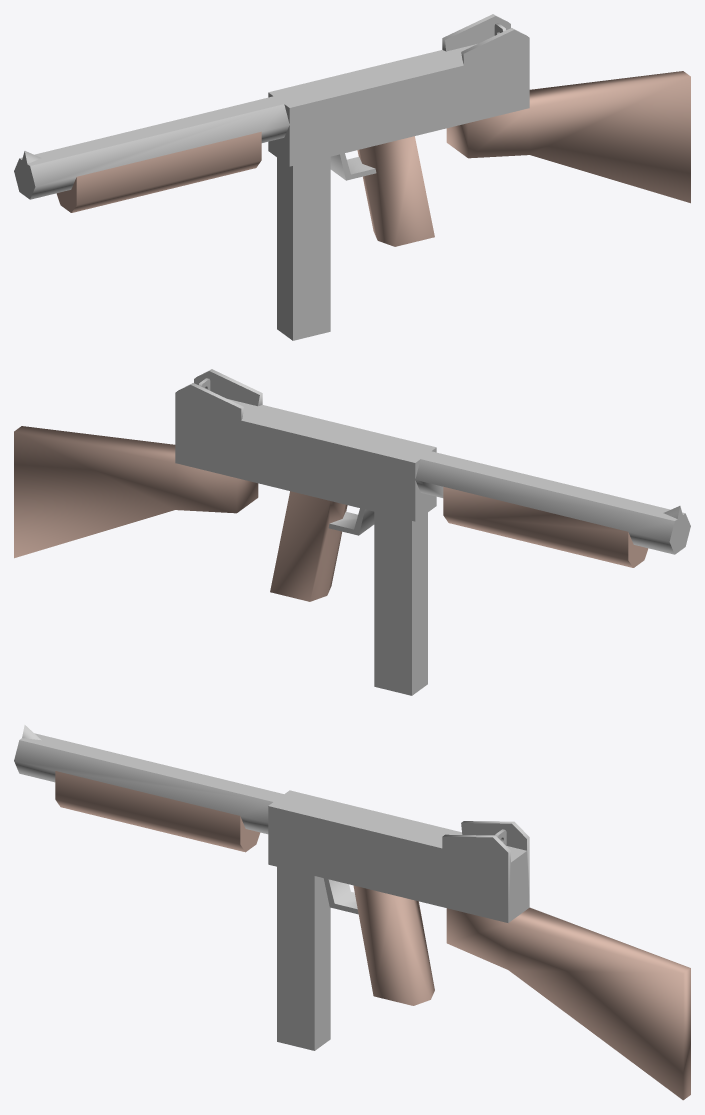
Rendered from Thompson.fbx.
The picture shows the model from 3 angles, top to bottom: view 1: azimuth 30°, elevation 25°; view 2: azimuth 150°, elevation 25°; view 3: azimuth 330°, elevation 25°; orthographic projection.
Parts seen in each view (by area): view 1: Gun, Mag; view 2: Gun, Mag; view 3: Gun, Mag.
Boxes of the visible parts, left/top/right/bottom form: Gun: left=14, top=14, right=690, bottom=246; Mag: left=277, top=156, right=330, bottom=340; Gun: left=14, top=369, right=690, bottom=601; Mag: left=374, top=511, right=427, bottom=695; Gun: left=14, top=725, right=690, bottom=1100; Mag: left=277, top=867, right=330, bottom=1050.
Size of the model in its own units: 0.0245 by 0.4374 by 0.1639.
